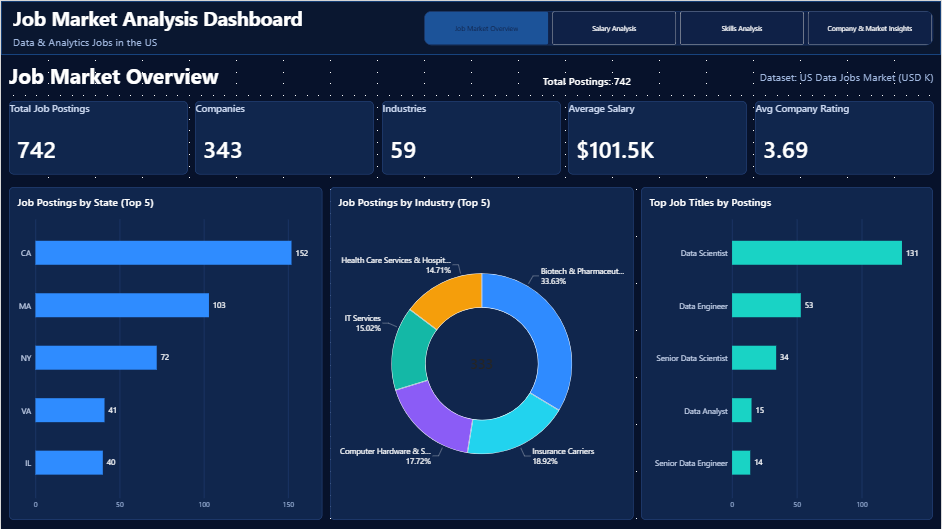

This screenshot's page, from the dashboard's own definition file:
{"tool":"powerbi","page":{"name":"Job Market Overview","canvas":[1920,1080],"ordinal":0},"visuals":[{"type":"cardVisual","fields":{"Data":["Market_cleaned.Total Job Postings"]},"box":[10,0,280,280],"z":0},{"type":"cardVisual","fields":{"Data":["Market_cleaned.Average Salary"]},"box":[0,304,280,280],"z":1},{"type":"cardVisual","fields":{"Data":["Market_cleaned.Total Companies"]},"box":[0,594,280,280],"z":2},{"type":"cardVisual","fields":{"Data":["Market_cleaned.Total Industries"]},"box":[608,688,280,196],"z":3},{"type":"cardVisual","fields":{"Data":["Market_cleaned.Average Company Rating"]},"box":[290,304,280,280],"z":4},{"type":"clusteredBarChart","fields":{"Category":["Market_cleaned.Location"],"Y":["CountNonNull(Market_cleaned.ID)"]},"box":[288,592,288,368],"z":5},{"type":"clusteredBarChart","fields":{"Category":["Market_cleaned.State"],"Y":["CountNonNull(Market_cleaned.ID)"]},"box":[576,304,256,368],"z":6},{"type":"clusteredColumnChart","fields":{"Category":["Market_cleaned.State"],"Y":["Sum(Market_cleaned.Avg_SalaryK)"]},"box":[288,0,280,280],"z":7},{"type":"clusteredBarChart","fields":{"Category":["Market_cleaned.Job_Title"],"Y":["CountNonNull(Market_cleaned.ID)"]},"box":[848,304,280,368],"z":8},{"type":"clusteredBarChart","fields":{"Category":["Market_cleaned.Industry"],"Y":["CountNonNull(Market_cleaned.ID)"]},"box":[576,0,280,280],"z":9},{"type":"clusteredBarChart","fields":{"Category":["Market_cleaned.company_txt"],"Y":["CountNonNull(Market_cleaned.ID)"]},"box":[896,688,280,368],"z":10},{"type":"clusteredBarChart","fields":{"Category":["Market_cleaned.Job_Title"],"Y":["Sum(Market_cleaned.Avg_SalaryK)"]},"box":[864,0,280,280],"z":11}]}

Visuals, with their boxes in screenshot pixels (x1, y1, x2, y2), scaled from the page's 1920x1080 canvas onto the 942x529 screenshot:
cardVisual - Market_cleaned.Total Job Postings: rect(5, 0, 142, 137)
cardVisual - Market_cleaned.Average Salary: rect(0, 149, 137, 286)
cardVisual - Market_cleaned.Total Companies: rect(0, 291, 137, 428)
cardVisual - Market_cleaned.Total Industries: rect(298, 337, 436, 433)
cardVisual - Market_cleaned.Average Company Rating: rect(142, 149, 280, 286)
clusteredBarChart - Market_cleaned.Location x CountNonNull(Market_cleaned.ID): rect(141, 290, 283, 470)
clusteredBarChart - Market_cleaned.State x CountNonNull(Market_cleaned.ID): rect(283, 149, 408, 329)
clusteredColumnChart - Market_cleaned.State x Sum(Market_cleaned.Avg_SalaryK): rect(141, 0, 279, 137)
clusteredBarChart - Market_cleaned.Job_Title x CountNonNull(Market_cleaned.ID): rect(416, 149, 553, 329)
clusteredBarChart - Market_cleaned.Industry x CountNonNull(Market_cleaned.ID): rect(283, 0, 420, 137)
clusteredBarChart - Market_cleaned.company_txt x CountNonNull(Market_cleaned.ID): rect(440, 337, 577, 517)
clusteredBarChart - Market_cleaned.Job_Title x Sum(Market_cleaned.Avg_SalaryK): rect(424, 0, 561, 137)
